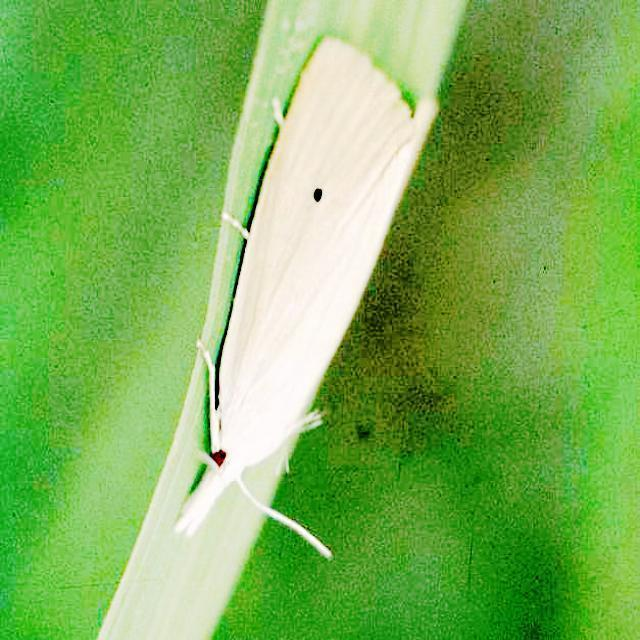stem-borer: (164, 28, 447, 550)
